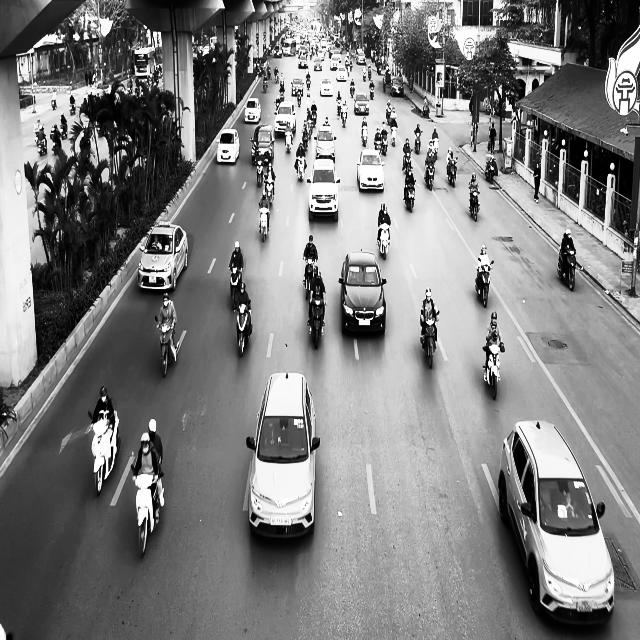bus: (134, 47, 156, 80)
car: (498, 420, 615, 628), (246, 371, 320, 539), (339, 250, 387, 335), (137, 221, 189, 292), (306, 158, 341, 222), (357, 148, 385, 192), (250, 125, 275, 164), (314, 124, 337, 162), (217, 128, 240, 164), (274, 101, 297, 137), (244, 97, 262, 123), (354, 92, 370, 114), (390, 76, 404, 96), (320, 76, 333, 96), (291, 77, 304, 96), (337, 66, 348, 81)
motorbike: (131, 464, 165, 558), (90, 409, 120, 495), (155, 316, 178, 377), (483, 342, 505, 399), (420, 313, 440, 368), (236, 298, 253, 356), (308, 296, 326, 349), (476, 259, 494, 308), (558, 246, 576, 290), (229, 267, 242, 310), (377, 222, 391, 260), (304, 258, 316, 300), (259, 203, 270, 241), (404, 178, 416, 212), (469, 188, 481, 222), (424, 160, 436, 190), (295, 153, 307, 181), (485, 155, 497, 183), (447, 157, 458, 187), (264, 174, 275, 204), (284, 128, 294, 152), (403, 148, 412, 174), (414, 129, 423, 154), (37, 134, 47, 156), (362, 126, 368, 147)
